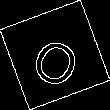O_NE: (24, 23, 86, 87)
